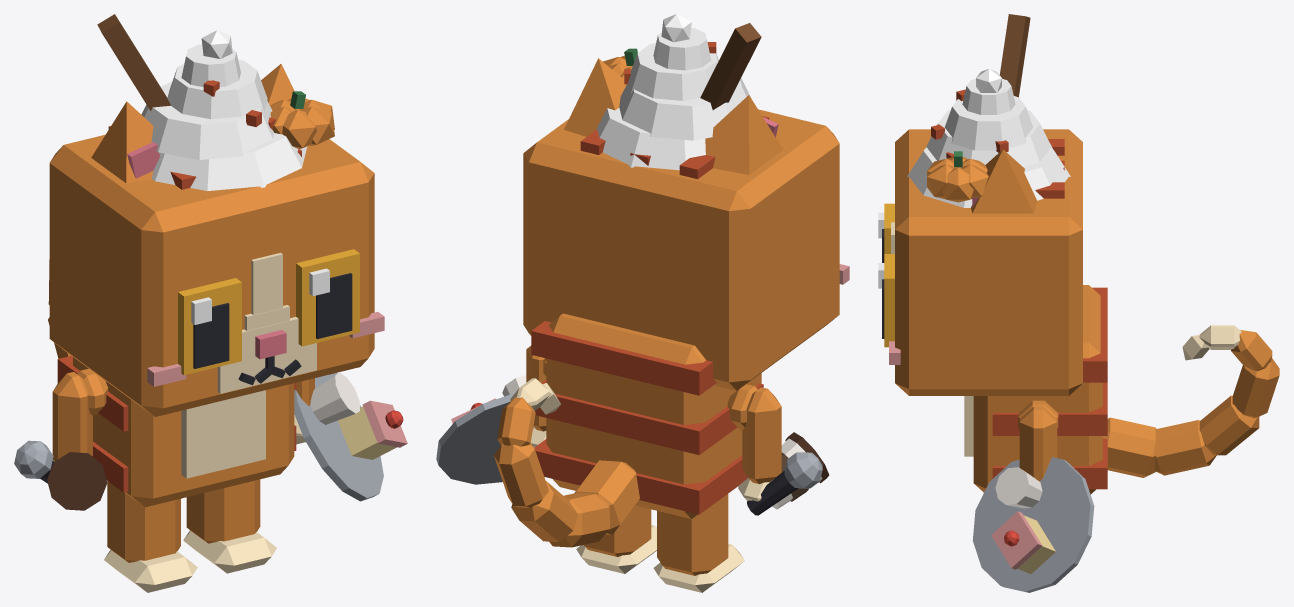
The model's file is CatCafe_Cat_PumpkinSpice_Work.glb.
The picture shows the model from 3 angles, left to right: view 1: azimuth 30°, elevation 25°; view 2: azimuth 150°, elevation 25°; view 3: azimuth 270°, elevation 25°; orthographic projection. The views are drawn at different scales.
Parts seen in each view (by area): view 1: CatCafe_Cat_PumpkinSpice_Work_Head, CatCafe_Cat_PumpkinSpice_Work_Prop, CatCafe_Cat_PumpkinSpice_Work_Body, CatCafe_Cat_PumpkinSpice_Work_Held_Waiter, CatCafe_Cat_PumpkinSpice_Work_LegB2, CatCafe_Cat_PumpkinSpice_Work_LegB1, CatCafe_Cat_PumpkinSpice_Work_Eye2, CatCafe_Cat_PumpkinSpice_Work_Eye1, CatCafe_Cat_PumpkinSpice_Work_EarR, CatCafe_Cat_PumpkinSpice_Work_LegF2, CatCafe_Cat_PumpkinSpice_Work_Held_Barista, CatCafe_Cat_PumpkinSpice_Work_Held_Entertainer (+2 smaller); view 2: CatCafe_Cat_PumpkinSpice_Work_Head, CatCafe_Cat_PumpkinSpice_Work_Body, CatCafe_Cat_PumpkinSpice_Work_Prop, CatCafe_Cat_PumpkinSpice_Work_Tail, CatCafe_Cat_PumpkinSpice_Work_LegB2, CatCafe_Cat_PumpkinSpice_Work_Held_Waiter, CatCafe_Cat_PumpkinSpice_Work_EarR, CatCafe_Cat_PumpkinSpice_Work_LegF2, CatCafe_Cat_PumpkinSpice_Work_LegB1, CatCafe_Cat_PumpkinSpice_Work_EarL, CatCafe_Cat_PumpkinSpice_Work_Held_Entertainer, CatCafe_Cat_PumpkinSpice_Work_Held_Barista (+1 smaller); view 3: CatCafe_Cat_PumpkinSpice_Work_Head, CatCafe_Cat_PumpkinSpice_Work_Prop, CatCafe_Cat_PumpkinSpice_Work_Held_Waiter, CatCafe_Cat_PumpkinSpice_Work_Body, CatCafe_Cat_PumpkinSpice_Work_Tail, CatCafe_Cat_PumpkinSpice_Work_EarL, CatCafe_Cat_PumpkinSpice_Work_LegF1, CatCafe_Cat_PumpkinSpice_Work_Eye1, CatCafe_Cat_PumpkinSpice_Work_Eye2.
Part boxes in pixels (bbox=[...]): CatCafe_Cat_PumpkinSpice_Work_Head: bbox=[49, 126, 384, 416]; CatCafe_Cat_PumpkinSpice_Work_Prop: bbox=[97, 14, 334, 190]; CatCafe_Cat_PumpkinSpice_Work_Body: bbox=[57, 355, 296, 507]; CatCafe_Cat_PumpkinSpice_Work_Held_Waiter: bbox=[294, 372, 407, 501]; CatCafe_Cat_PumpkinSpice_Work_LegB2: bbox=[104, 481, 197, 592]; CatCafe_Cat_PumpkinSpice_Work_LegB1: bbox=[183, 479, 276, 573]; CatCafe_Cat_PumpkinSpice_Work_Eye2: bbox=[178, 278, 241, 375]; CatCafe_Cat_PumpkinSpice_Work_Eye1: bbox=[296, 249, 359, 346]; CatCafe_Cat_PumpkinSpice_Work_EarR: bbox=[91, 101, 159, 183]; CatCafe_Cat_PumpkinSpice_Work_LegF2: bbox=[52, 372, 92, 461]; CatCafe_Cat_PumpkinSpice_Work_Held_Barista: bbox=[47, 452, 107, 510]; CatCafe_Cat_PumpkinSpice_Work_Held_Entertainer: bbox=[14, 440, 54, 483]; CatCafe_Cat_PumpkinSpice_Work_Head: bbox=[523, 109, 849, 390]; CatCafe_Cat_PumpkinSpice_Work_Body: bbox=[531, 313, 763, 518]; CatCafe_Cat_PumpkinSpice_Work_Prop: bbox=[596, 14, 761, 170]; CatCafe_Cat_PumpkinSpice_Work_Tail: bbox=[494, 378, 639, 547]; CatCafe_Cat_PumpkinSpice_Work_LegB2: bbox=[653, 494, 744, 592]; CatCafe_Cat_PumpkinSpice_Work_Held_Waiter: bbox=[436, 375, 526, 484]; CatCafe_Cat_PumpkinSpice_Work_EarR: bbox=[705, 95, 783, 174]; CatCafe_Cat_PumpkinSpice_Work_LegF2: bbox=[738, 387, 781, 501]; CatCafe_Cat_PumpkinSpice_Work_LegB1: bbox=[576, 505, 656, 573]; CatCafe_Cat_PumpkinSpice_Work_EarL: bbox=[564, 58, 626, 136]; CatCafe_Cat_PumpkinSpice_Work_Held_Entertainer: bbox=[747, 452, 822, 515]; CatCafe_Cat_PumpkinSpice_Work_Held_Barista: bbox=[772, 432, 829, 509]; CatCafe_Cat_PumpkinSpice_Work_Head: bbox=[889, 129, 1082, 395]; CatCafe_Cat_PumpkinSpice_Work_Prop: bbox=[907, 14, 1070, 207]; CatCafe_Cat_PumpkinSpice_Work_Held_Waiter: bbox=[972, 457, 1094, 592]; CatCafe_Cat_PumpkinSpice_Work_Body: bbox=[964, 285, 1107, 494]; CatCafe_Cat_PumpkinSpice_Work_Tail: bbox=[1103, 325, 1279, 477]; CatCafe_Cat_PumpkinSpice_Work_EarL: bbox=[971, 149, 1036, 213]; CatCafe_Cat_PumpkinSpice_Work_LegF1: bbox=[1019, 406, 1057, 481]; CatCafe_Cat_PumpkinSpice_Work_Eye1: bbox=[878, 254, 894, 347]; CatCafe_Cat_PumpkinSpice_Work_Eye2: bbox=[878, 203, 894, 262].
Size of the model in its own units: 1.53 by 2.23 by 1.62.
1 material, 1 textured.
